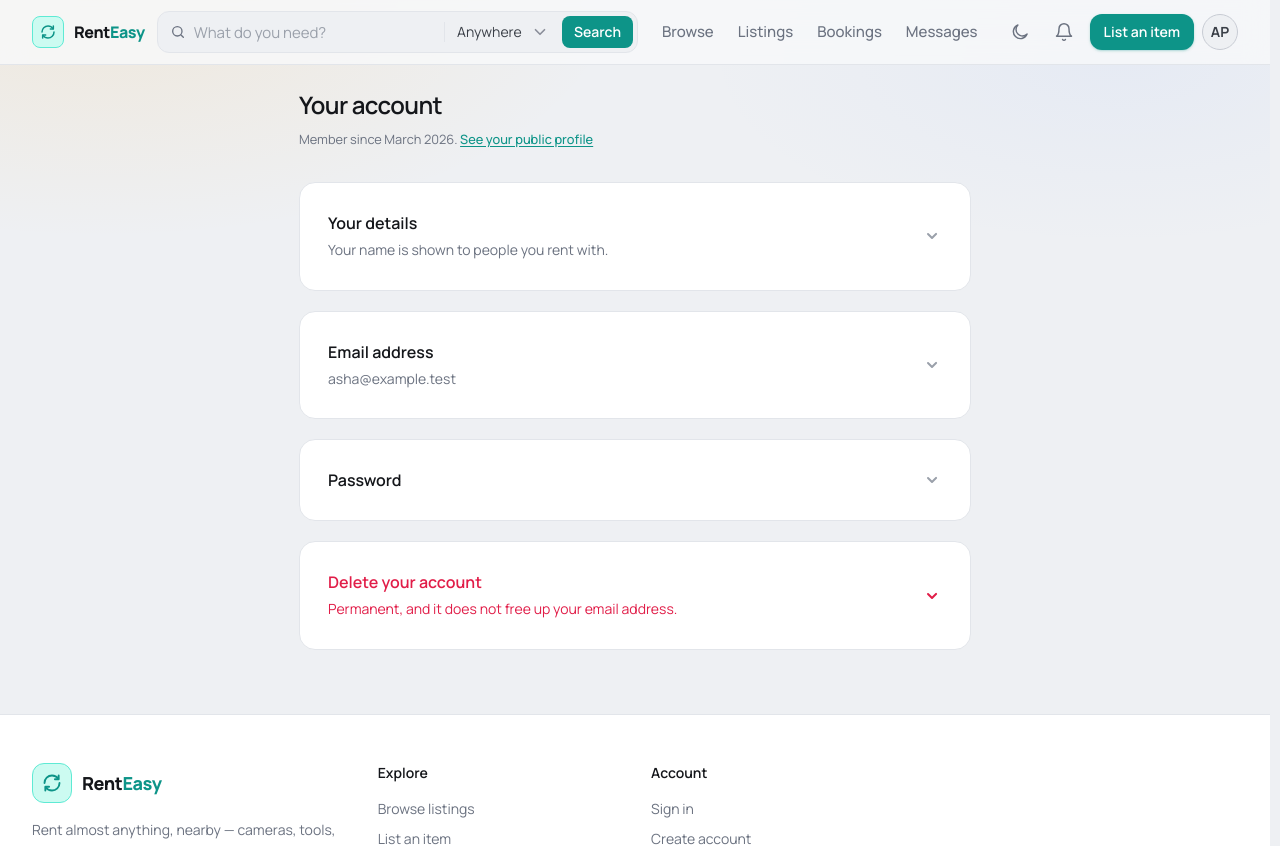
Test: the account page starts closed › opens one section on click and leaves the others shut
The image size is (1280, 846).
Click the button "Your details Your name is shown to people you rent with." at (373,223), box [300, 183, 970, 290]
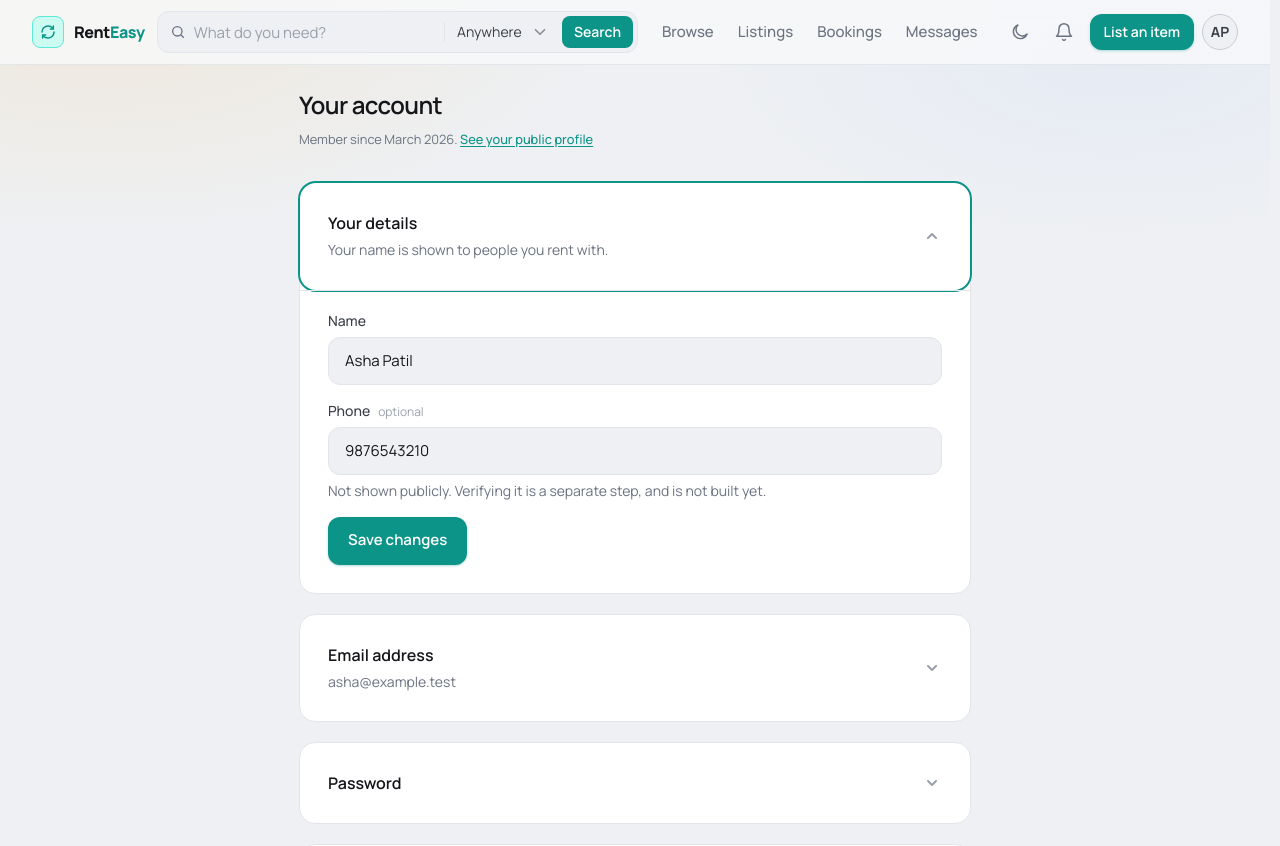
Expected: the button "Password" is shown, [300, 743, 970, 823]
Now the field showing "Asha Patil" is shown, box [328, 336, 942, 384]
